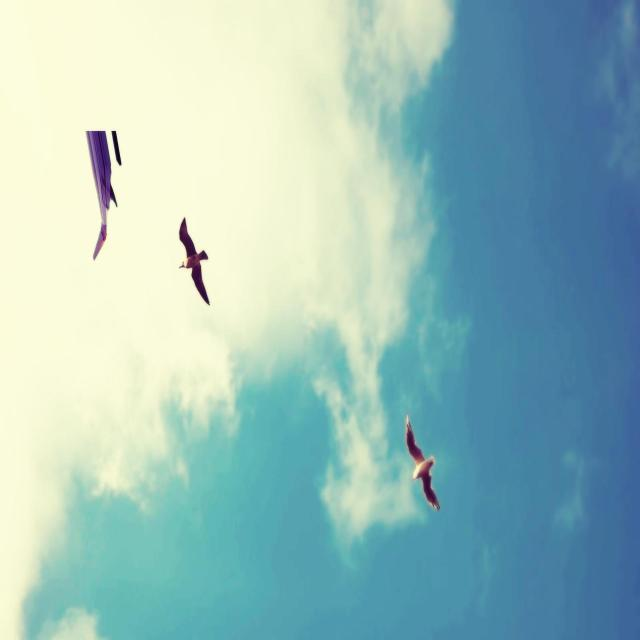airplane: (85, 129, 122, 260)
